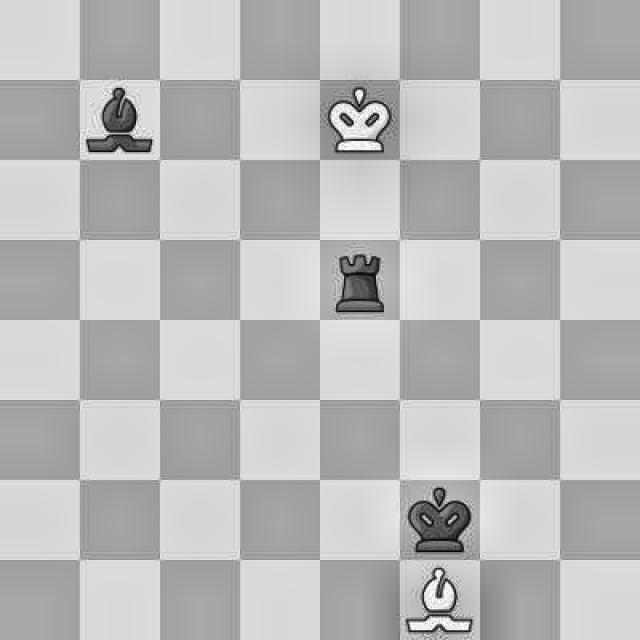black bishop: (83, 82, 158, 158)
black king: (403, 484, 482, 562)
black rook: (326, 254, 395, 314)
white bishop: (408, 565, 476, 640)
white king: (325, 77, 398, 158)
